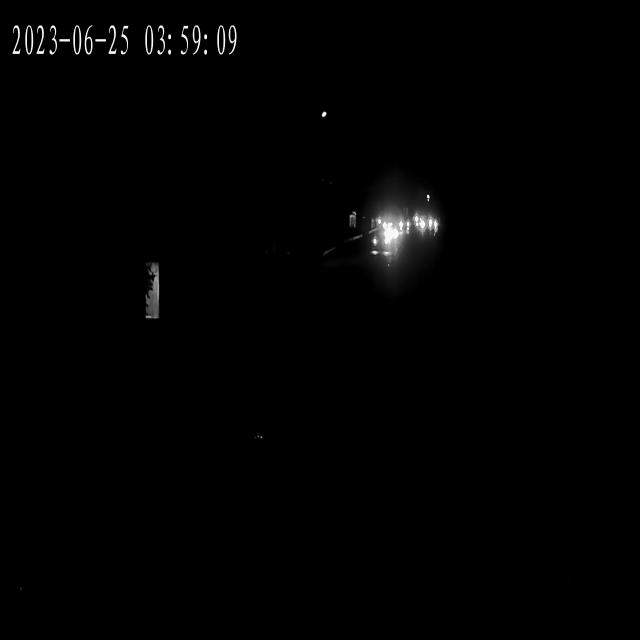Car: (369, 235, 394, 258), (380, 222, 400, 239), (420, 216, 438, 233), (394, 219, 408, 234)
